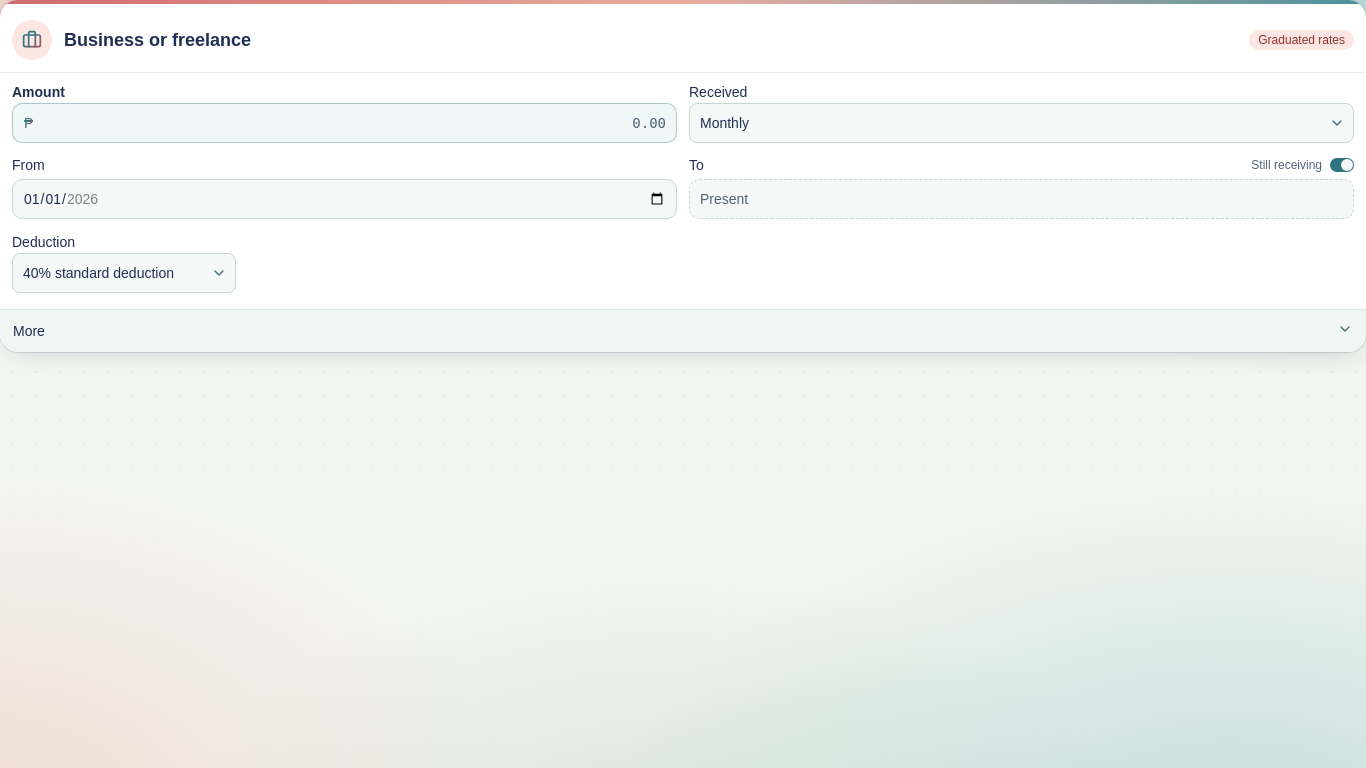
Test: BusinessSection: the card › offers monthly, quarterly and yearly
Click the dropdown named "Received": (725, 123) x1=689 y1=103 x2=1354 y2=143
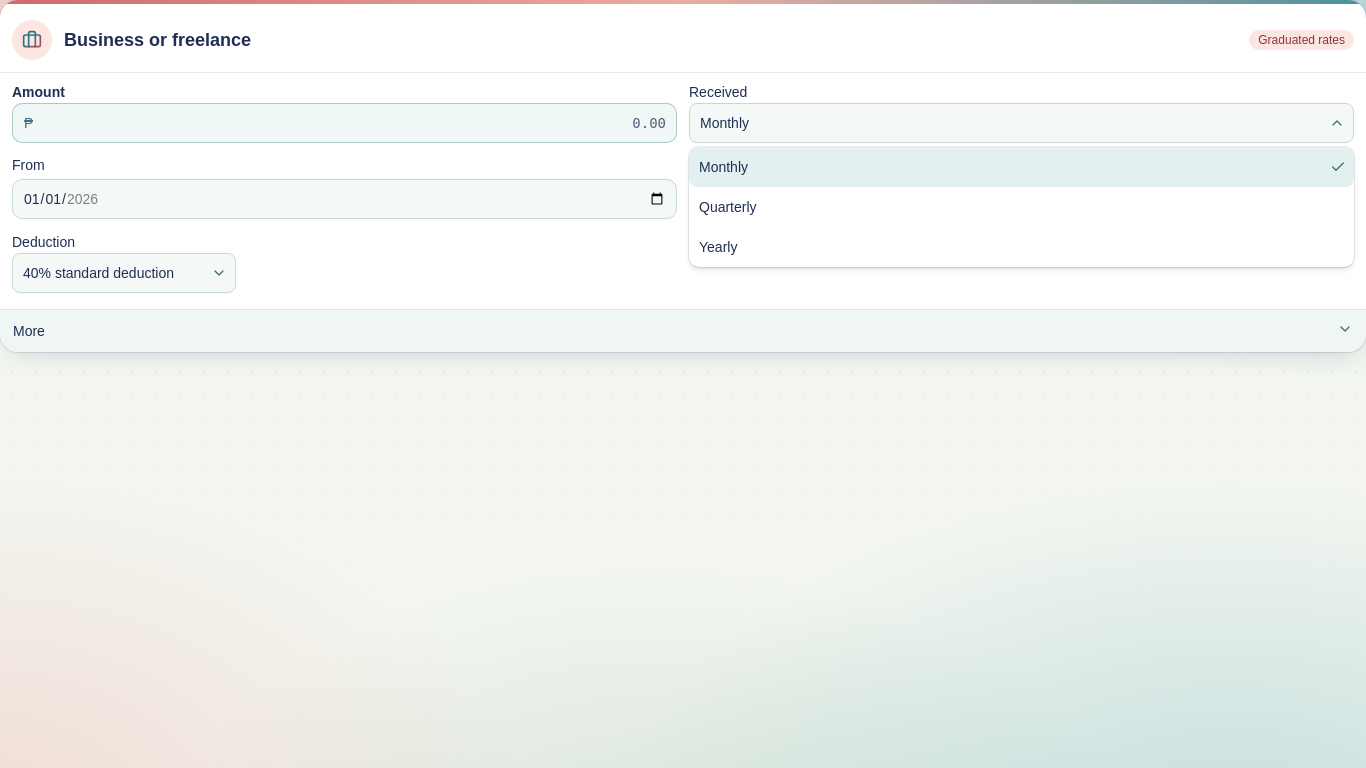
Check: the options read "Monthly", "Quarterly", "Yearly", in this order, box x1=689 y1=147 x2=1354 y2=187; x1=699 y1=199 x2=757 y2=215; x1=699 y1=239 x2=737 y2=255
